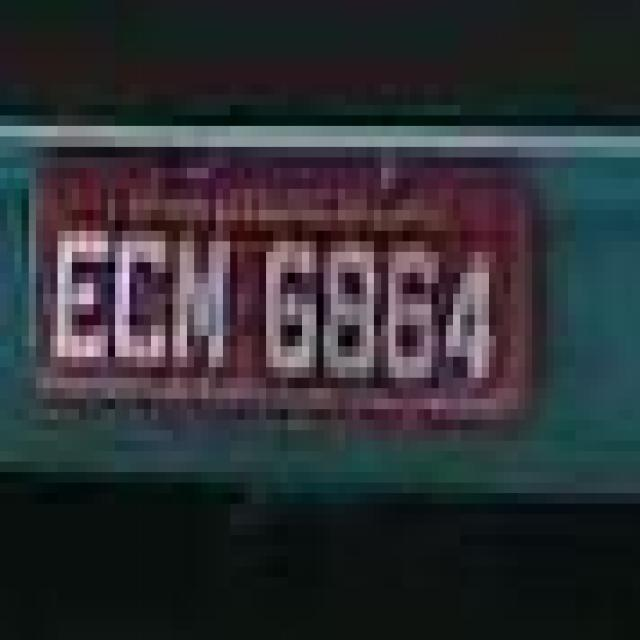4: (442, 235, 498, 390)
6: (383, 234, 439, 392), (265, 234, 321, 387)
8: (322, 231, 382, 391)
C: (116, 216, 171, 377)
E: (52, 222, 111, 378)
M: (176, 218, 236, 384)
